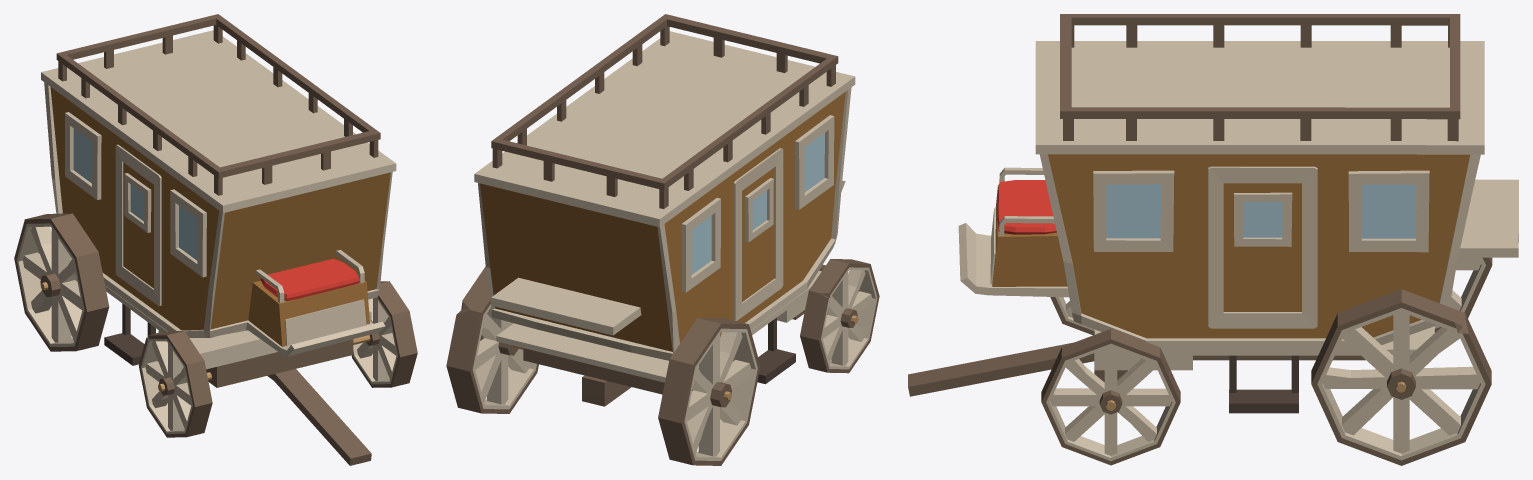
File: Cart_5.fbx
3 renders of one model, left to right at view 1: azimuth 30°, elevation 25°; view 2: azimuth 150°, elevation 25°; view 3: azimuth 270°, elevation 25°, orthographic. The views are drawn at different scales.
Parts seen in each view (by area): view 1: Cart_5; view 2: Cart_5; view 3: Cart_5.
Boxes of the visible parts, x1,y1,x2,y2 form: Cart_5: (14, 14, 417, 465); Cart_5: (446, 14, 879, 465); Cart_5: (908, 14, 1518, 465).
Size of the model in its own units: 332 by 601 by 366.
